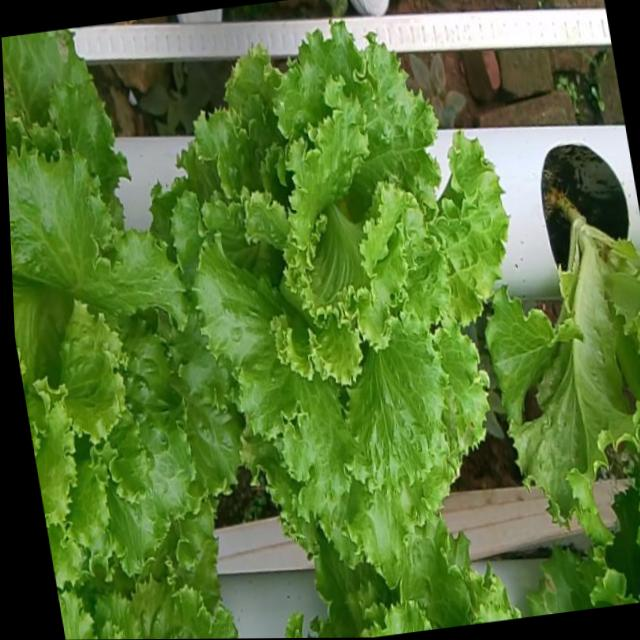Mature: (160, 15, 499, 557), (6, 132, 232, 567)
